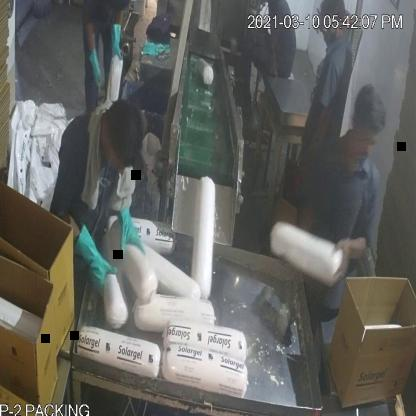glove: (72, 220, 121, 302), (115, 203, 148, 270), (86, 36, 106, 92), (110, 18, 126, 64)
no_glove: (292, 92, 336, 190), (330, 219, 373, 289), (266, 34, 282, 84)
